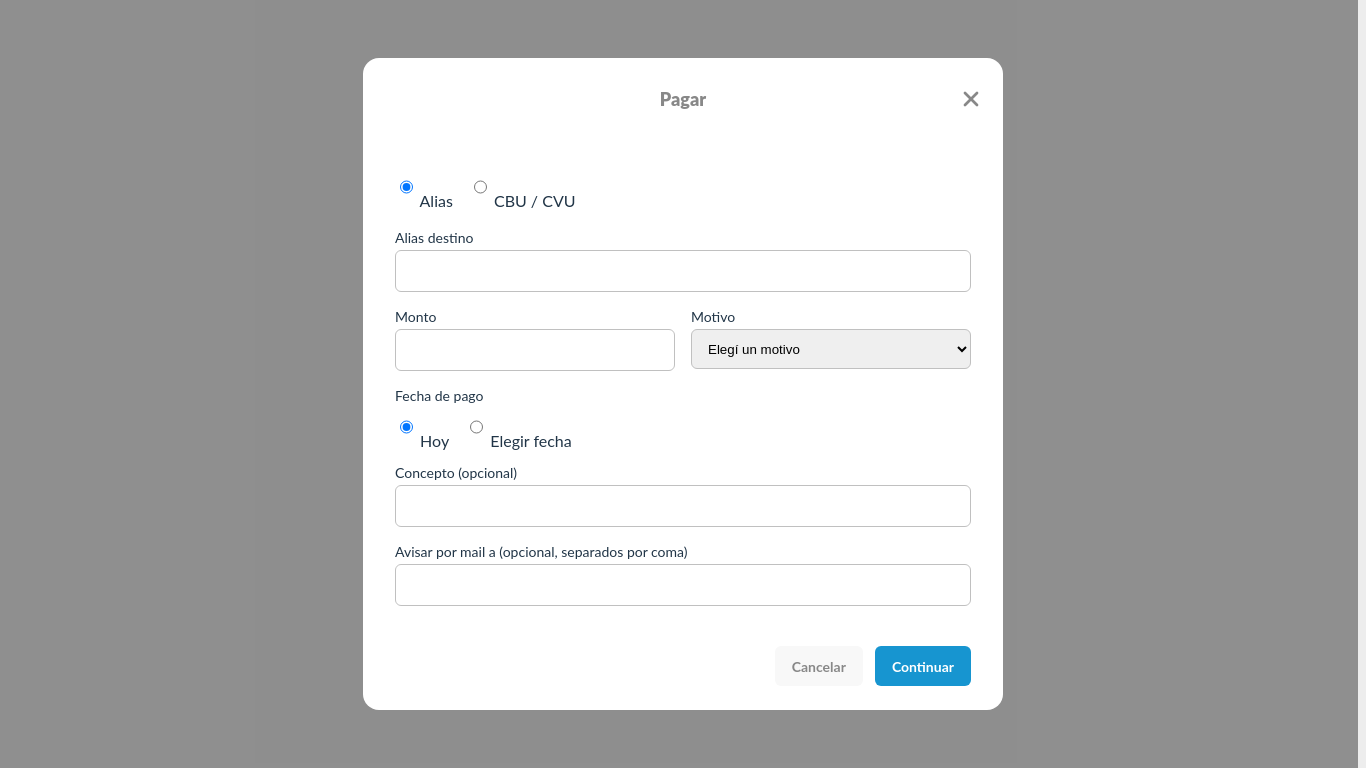
it: PaymentModal › shows the create error on the form
The width and height of the screenshot is (1366, 768).
In the field labelled "Alias destino": [683, 271] box [395, 250, 971, 292], type "prov.alias"
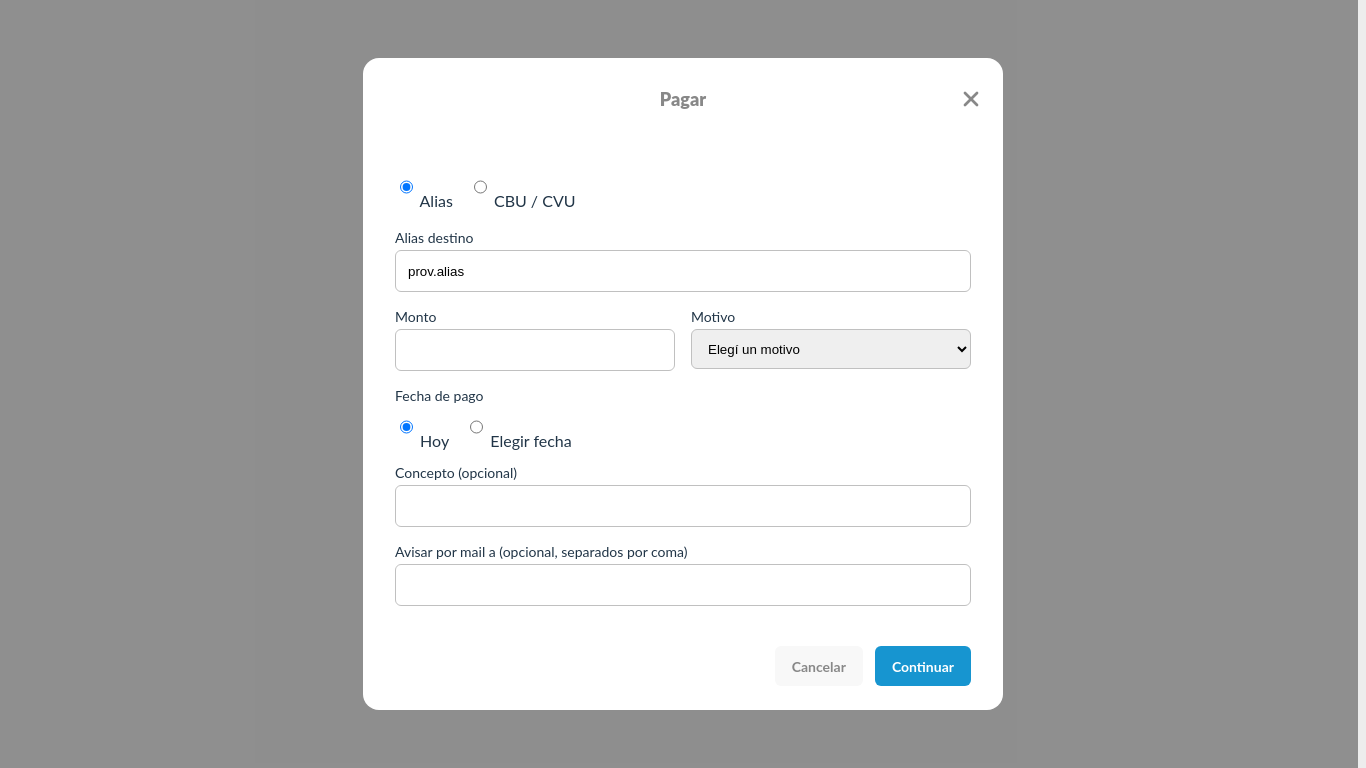
In the number field labelled "Monto": [535, 350] box [395, 329, 675, 371], type "100"
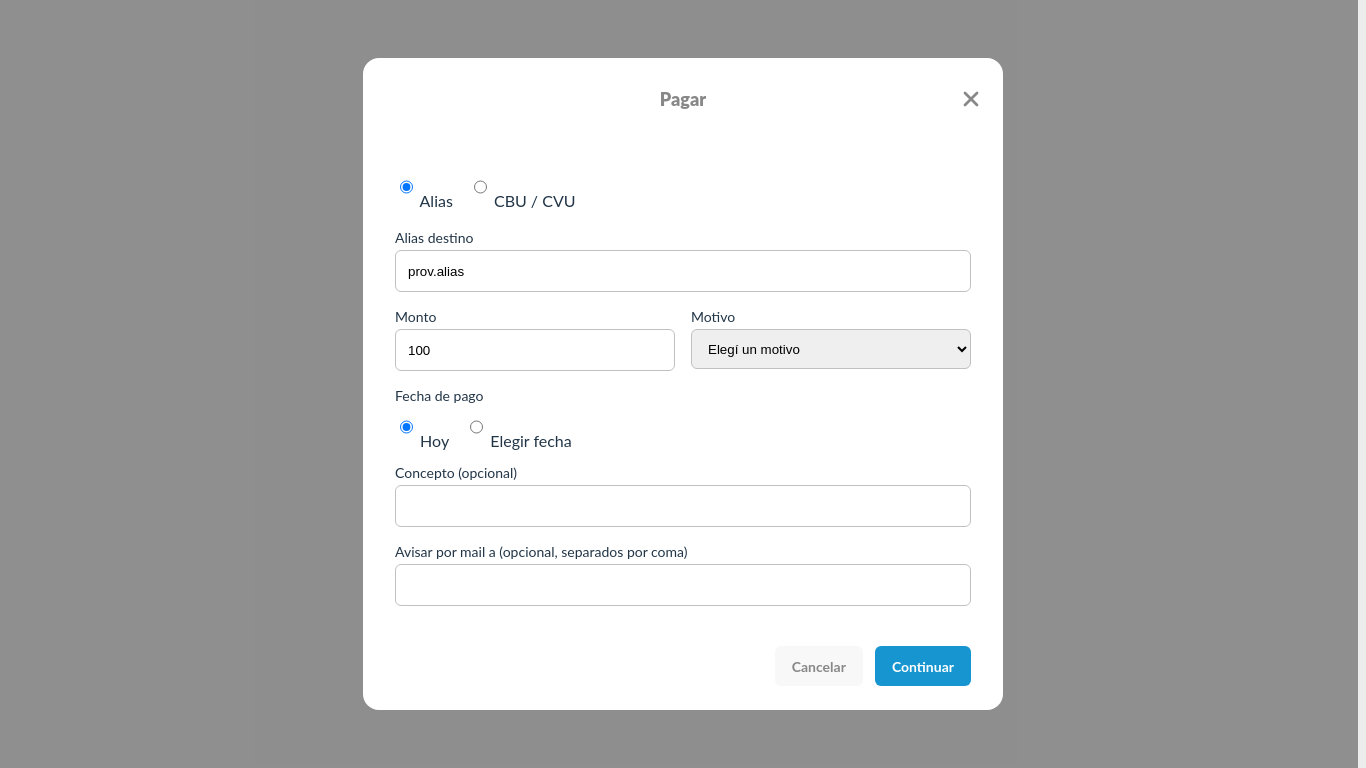
Select "Honorarios" in the dropdown labelled "Motivo": [831, 349] box [691, 329, 971, 369]
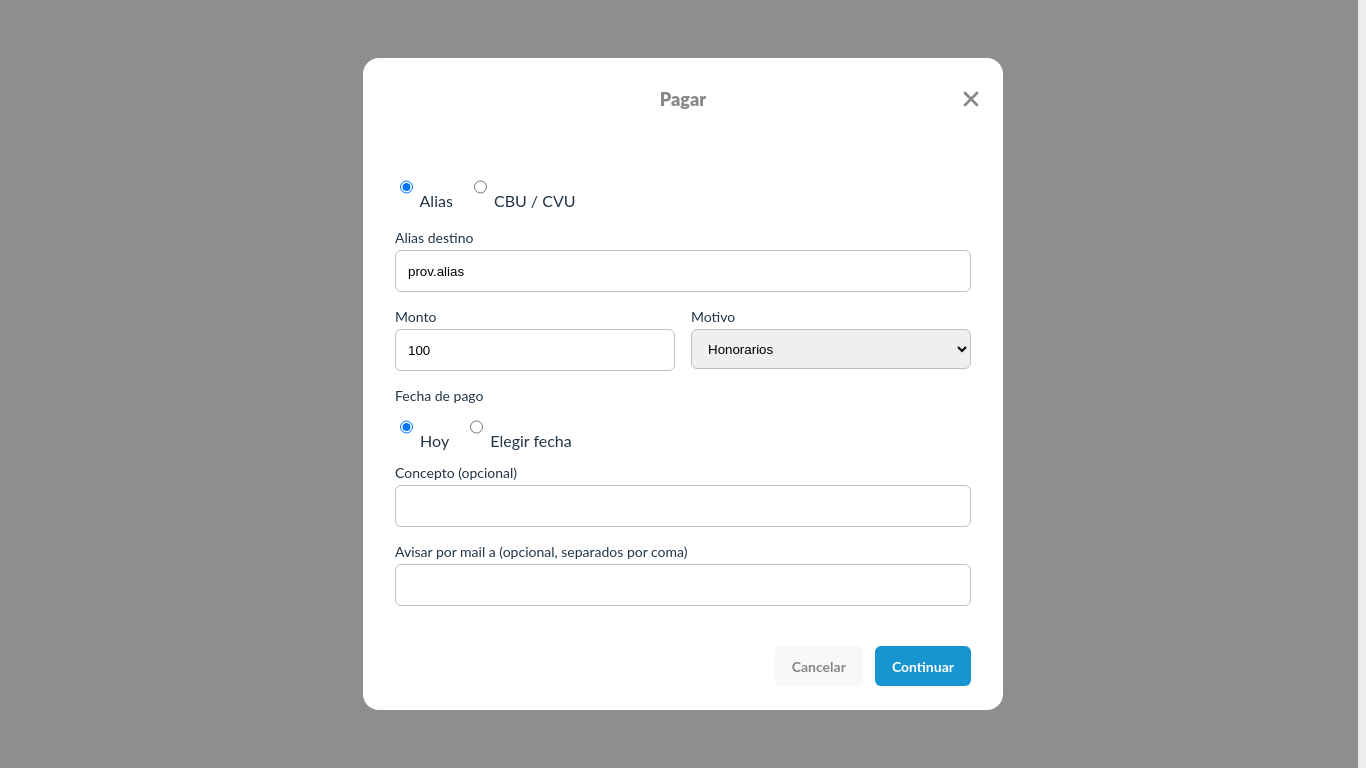
Click the button "Continuar": [923, 666] box [875, 646, 971, 686]
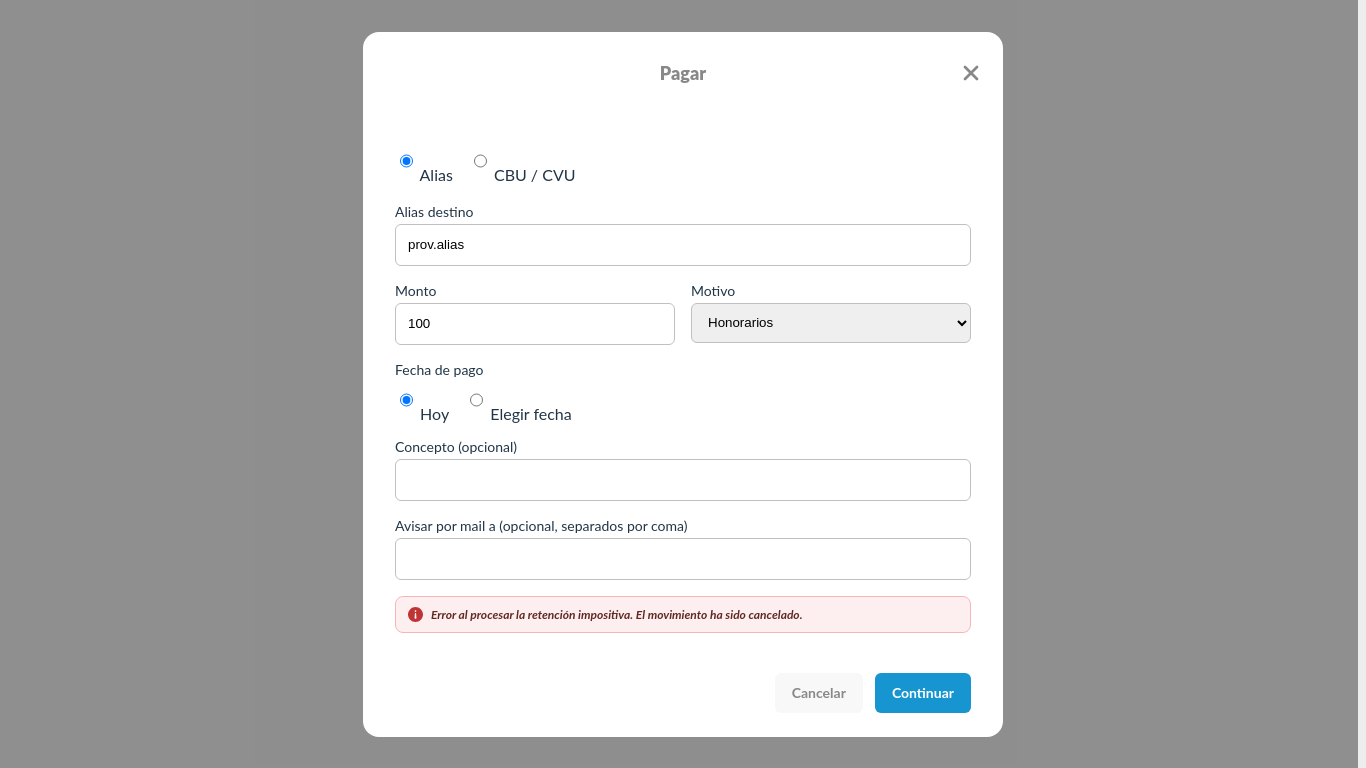
Expected: the button "Continuar" is shown, [875, 672, 971, 712]
Expected: the text "Error al procesar la retención impositiva. El movimiento ha sido cancelado." is shown, [431, 606, 802, 622]
